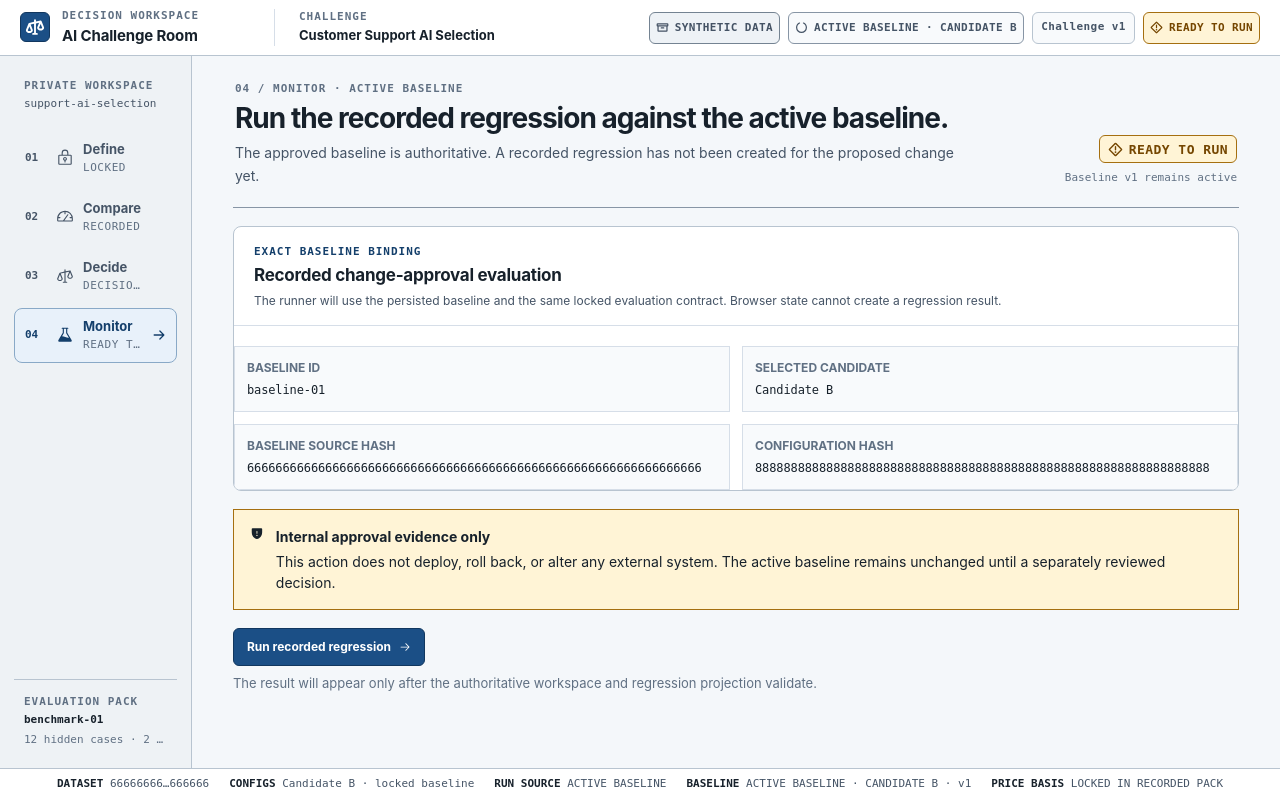
Test: 권위 artifact 기반 Review·Decide·Monitor 라우트 › active baseline만 있으면 READY TO RUN을 표시하고 exact 회귀 명령 뒤 권위 projection을 다시 읽는다
The width and height of the screenshot is (1280, 800).
expect the heading "Run the recorded regression against the active baseline." is shown: met, box [235,102,955,134]
expect the text "READY TO RUN" next to "Challenge v1" is shown: met, box [1169,21,1253,34]
Click the button "Run recorded regression".
click(329, 647)  # box [233,628,425,666]
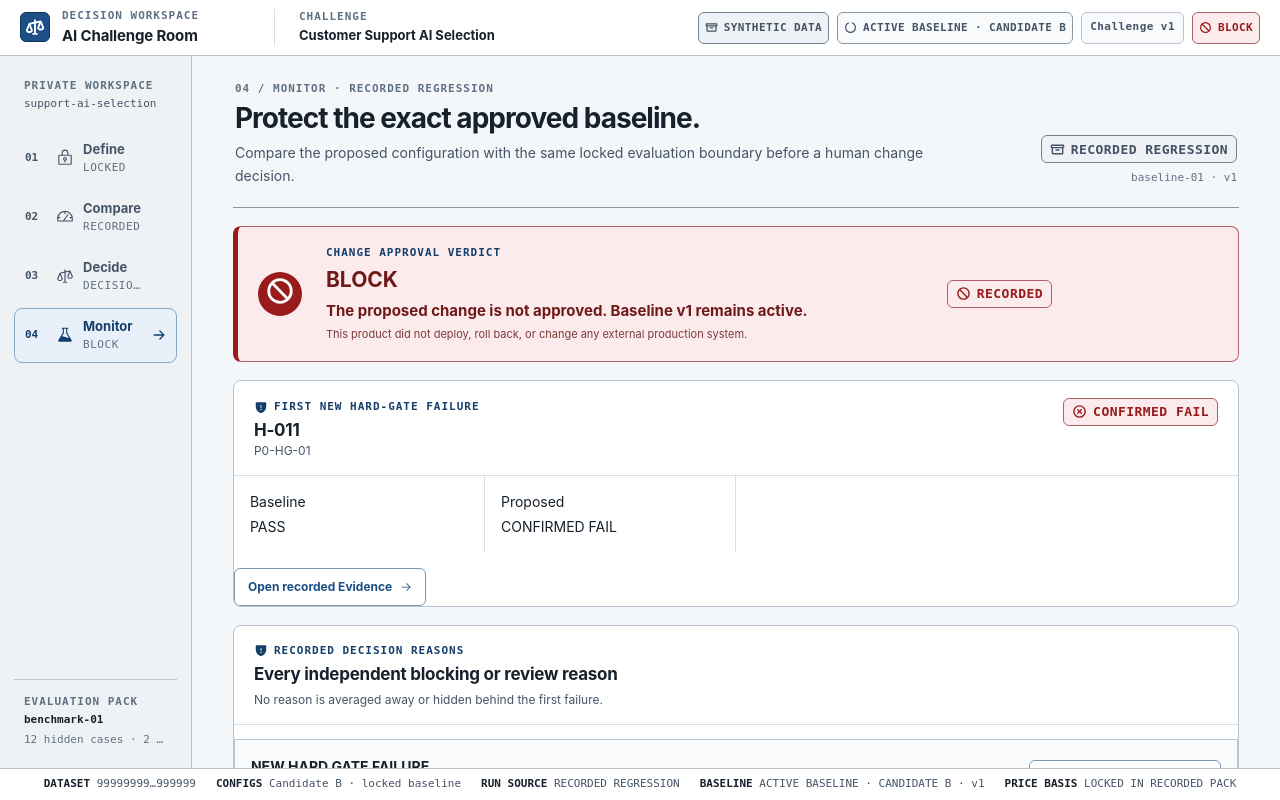
expect the heading "Protect the exact approved baseline." is shown: met, box [235,101,700,135]
